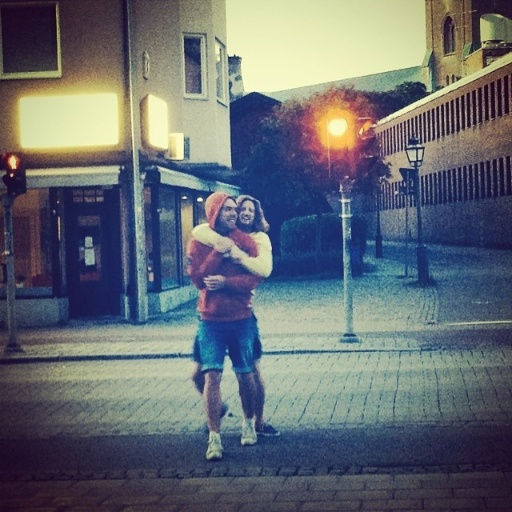hand: (200, 272, 225, 289), (212, 236, 235, 254), (229, 245, 244, 267)
